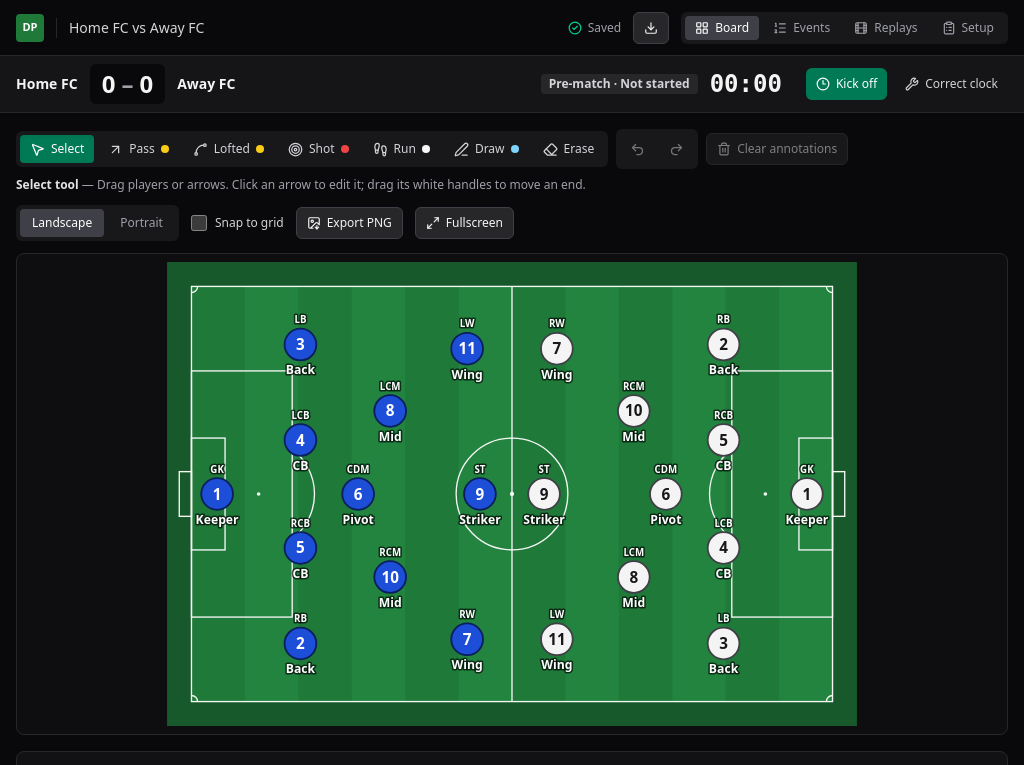
fullscreen pitch (native Fullscreen API) › fullscreens the one existing stage and swaps the control for an obvious exit
The image size is (1024, 765).
Click the button "Fullscreen". click: (464, 223)
box: [415,207,514,239]
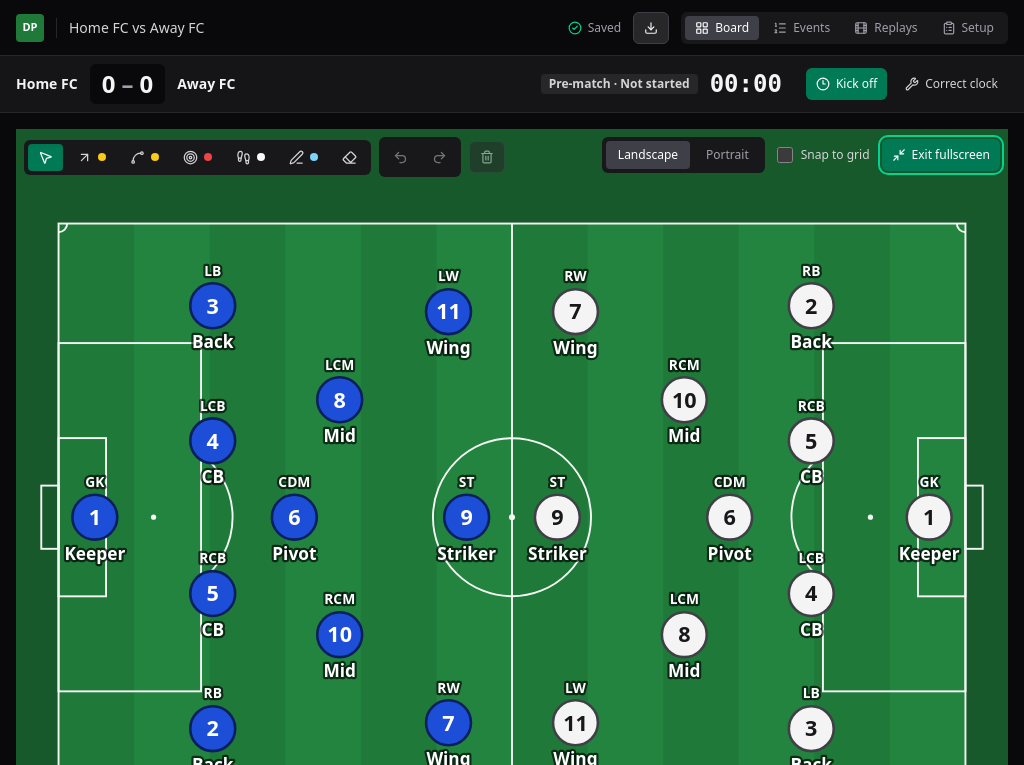
Expected: the element named "Drawing tools" is shown, [24,140,371,174]
Expected: the button "Exit fullscreen" is shown, [882,139,1000,171]
Expected: the button "Export PNG" is gone
